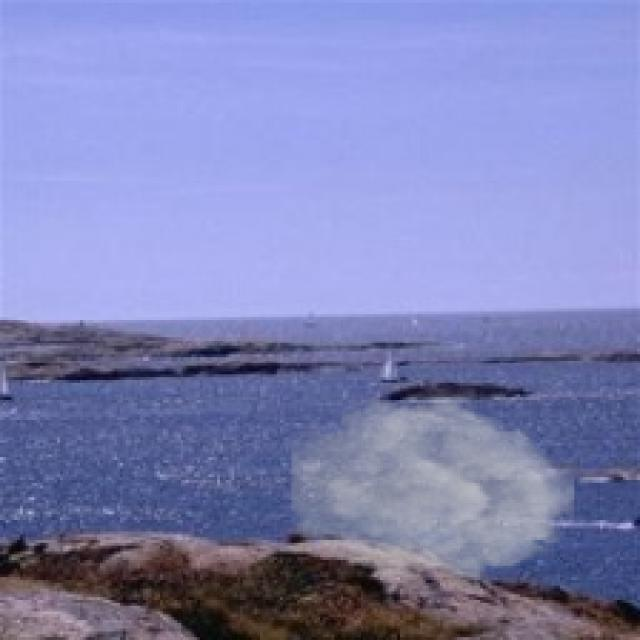Smoke: (292, 388, 574, 592)
